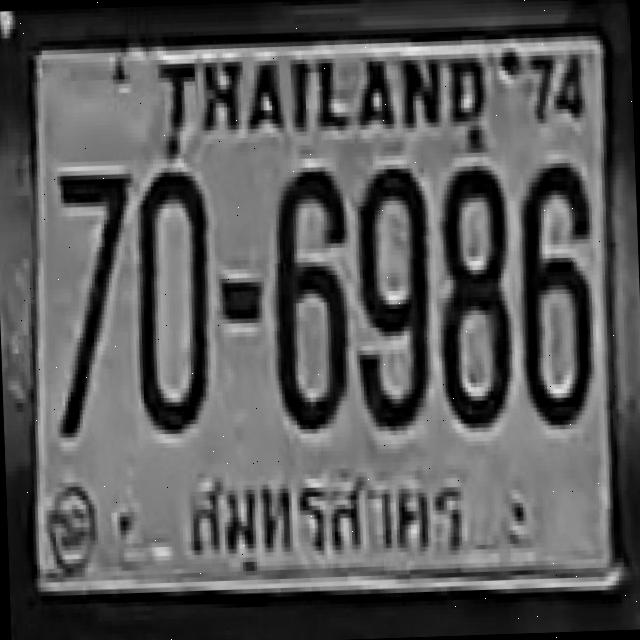0: (130, 166, 212, 430)
6: (266, 164, 348, 423), (514, 158, 594, 422)
7: (48, 169, 136, 433)
8: (434, 160, 511, 424)
9: (350, 163, 432, 427)
SamutSakhon: (180, 445, 490, 580)
